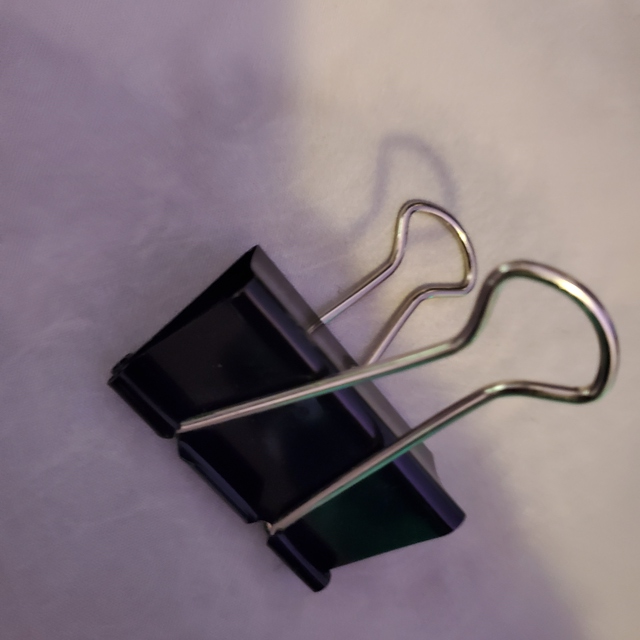clip: (101, 192, 616, 604)
